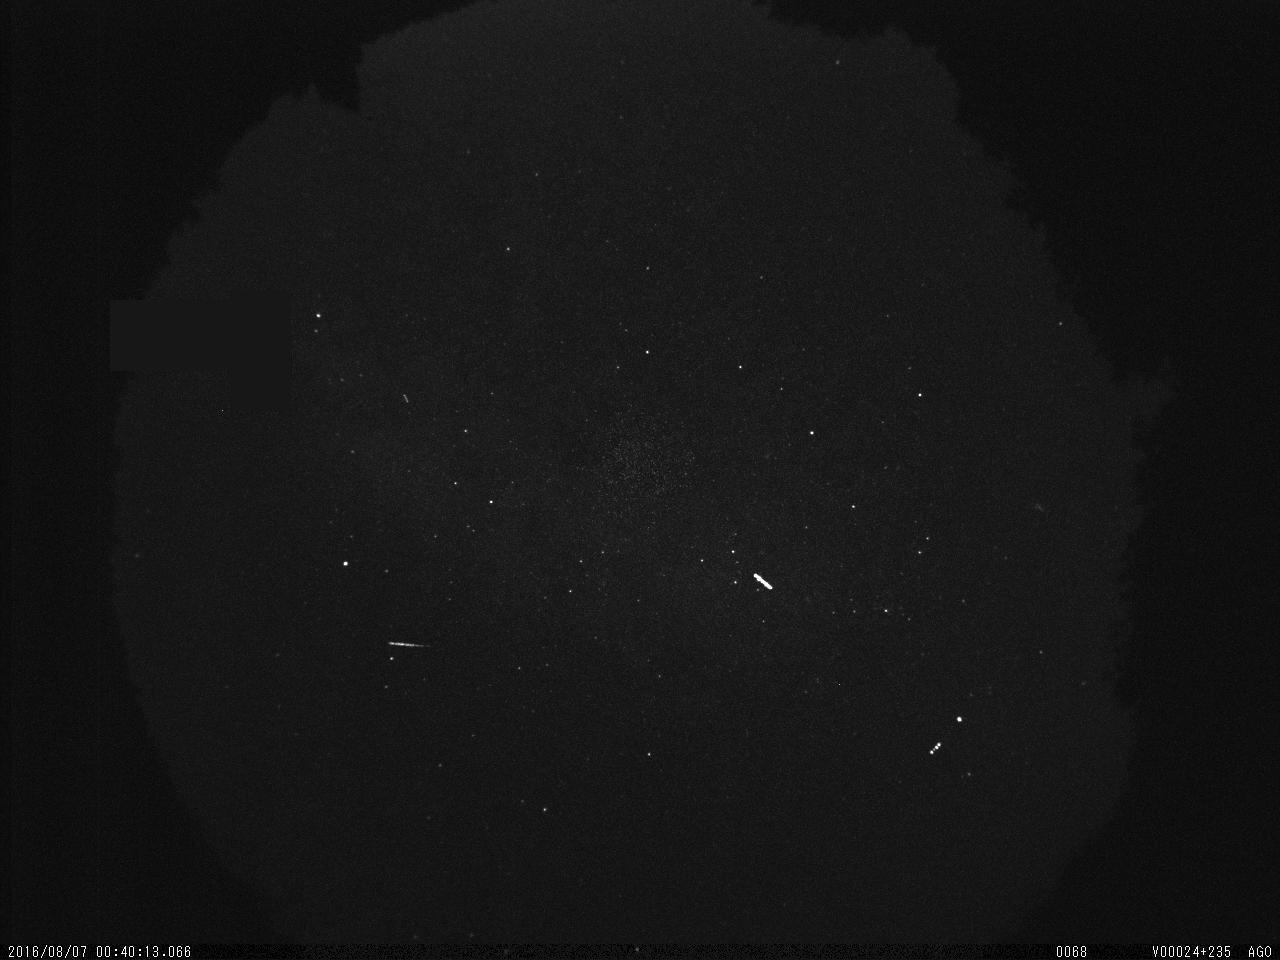Meteor: (387, 638, 432, 649)
